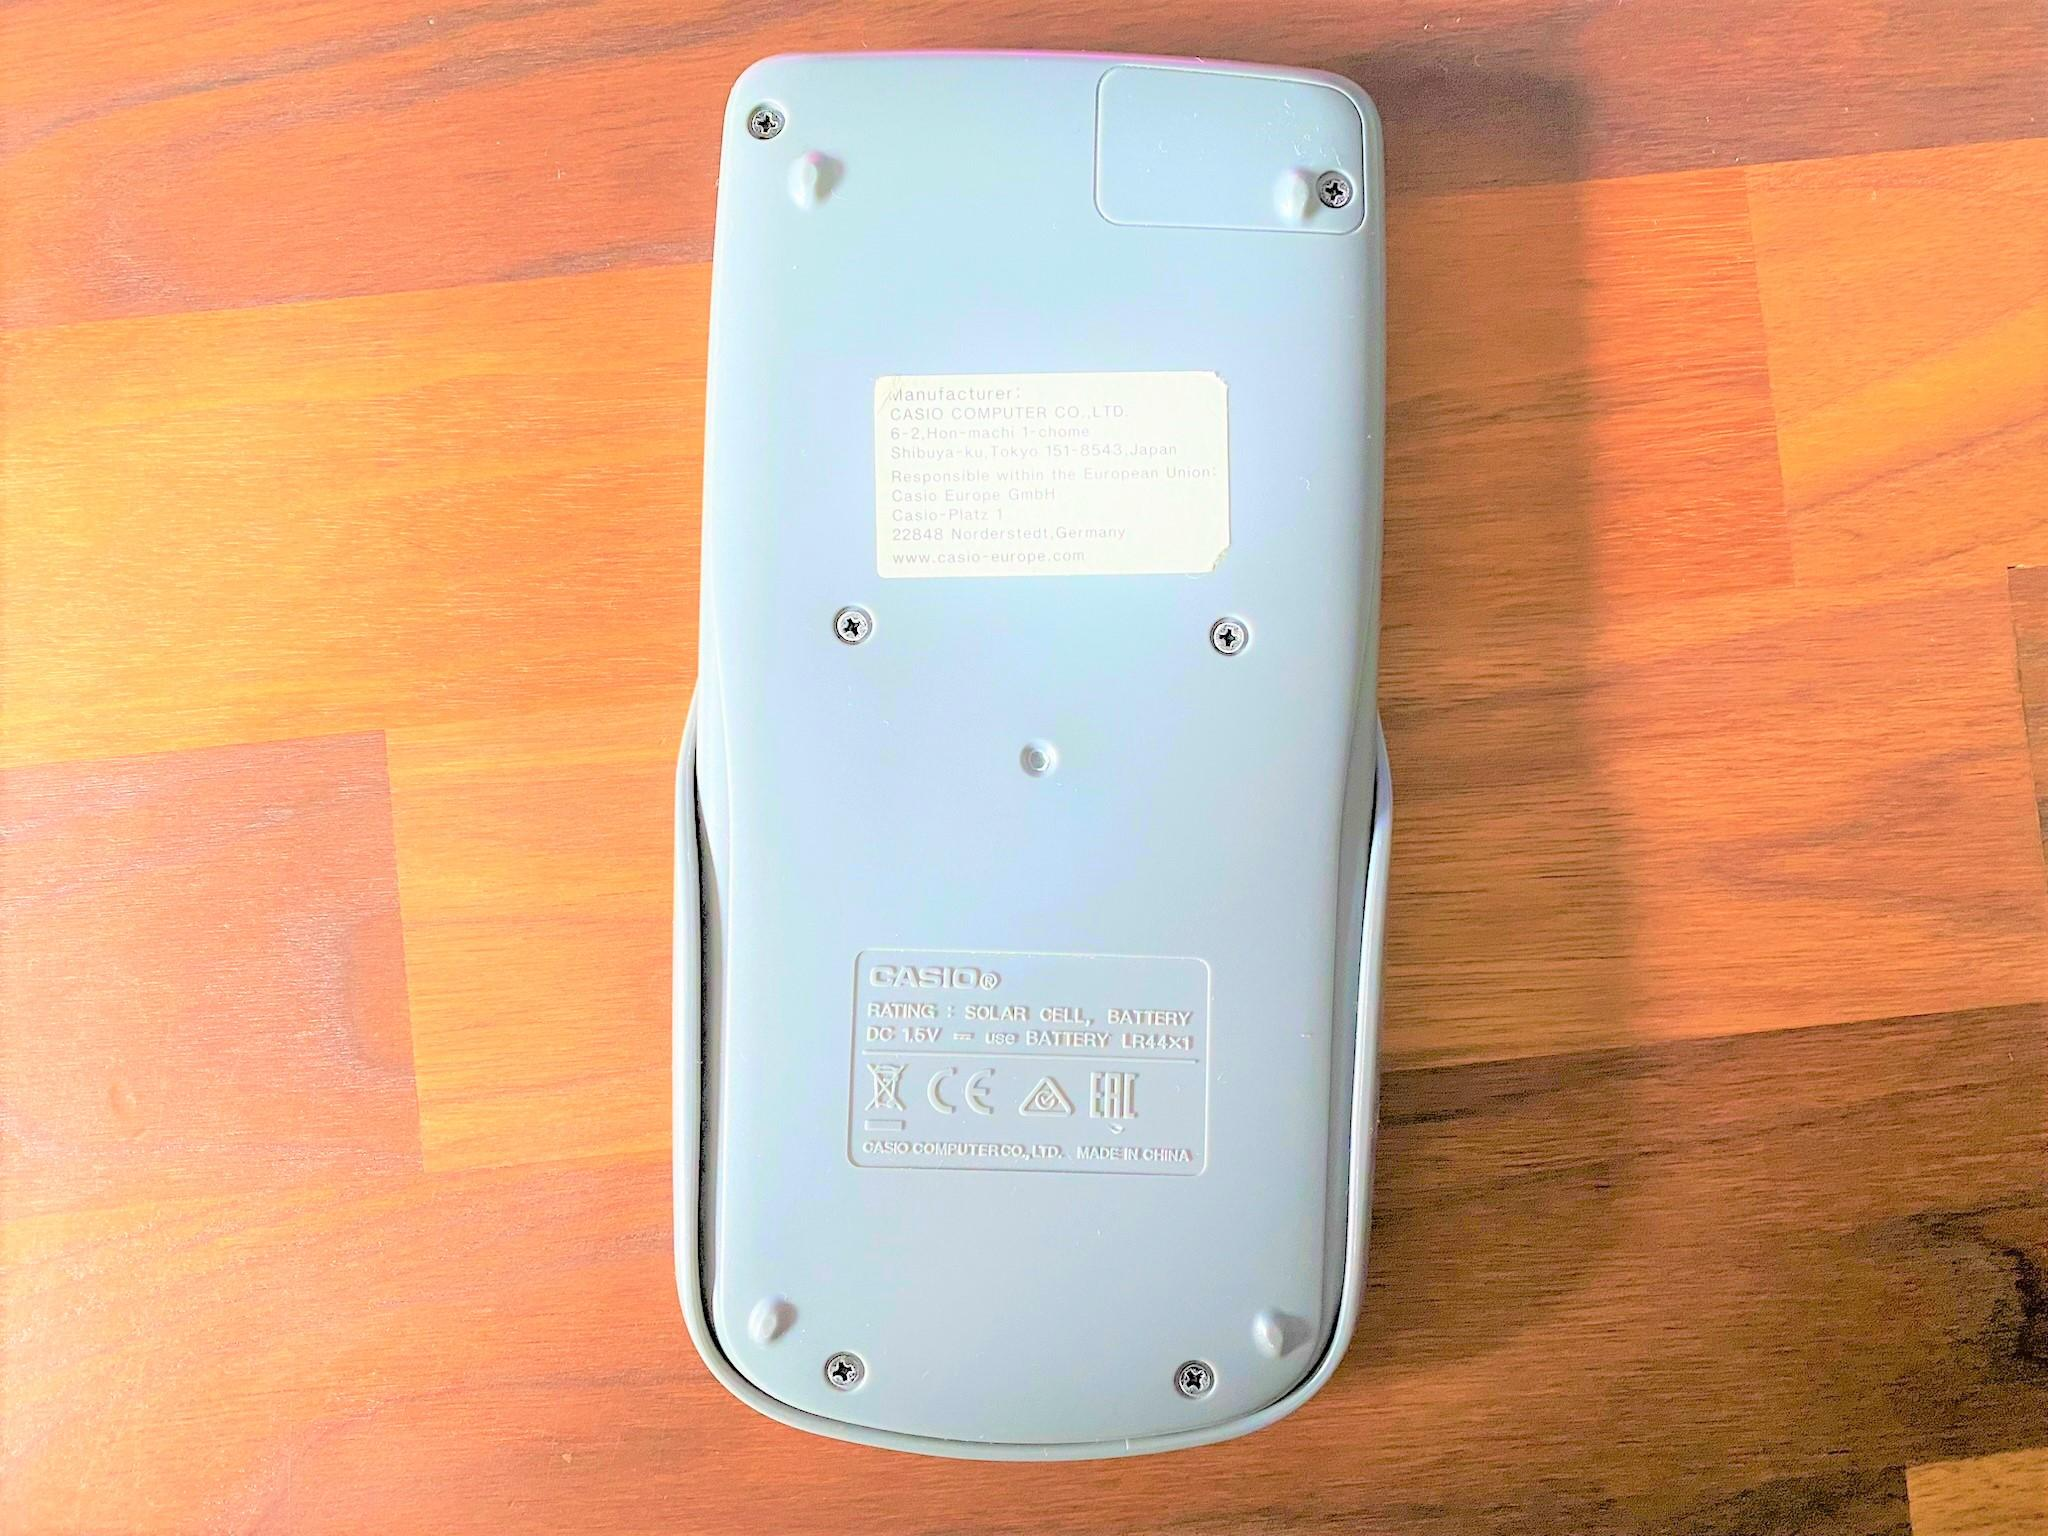PH: (1174, 1359, 1216, 1400), (745, 103, 790, 142), (1314, 169, 1356, 210), (832, 605, 872, 645), (826, 1352, 863, 1389), (1211, 621, 1248, 655)
